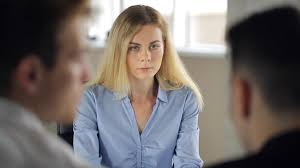white_female: (117, 15, 165, 95)
